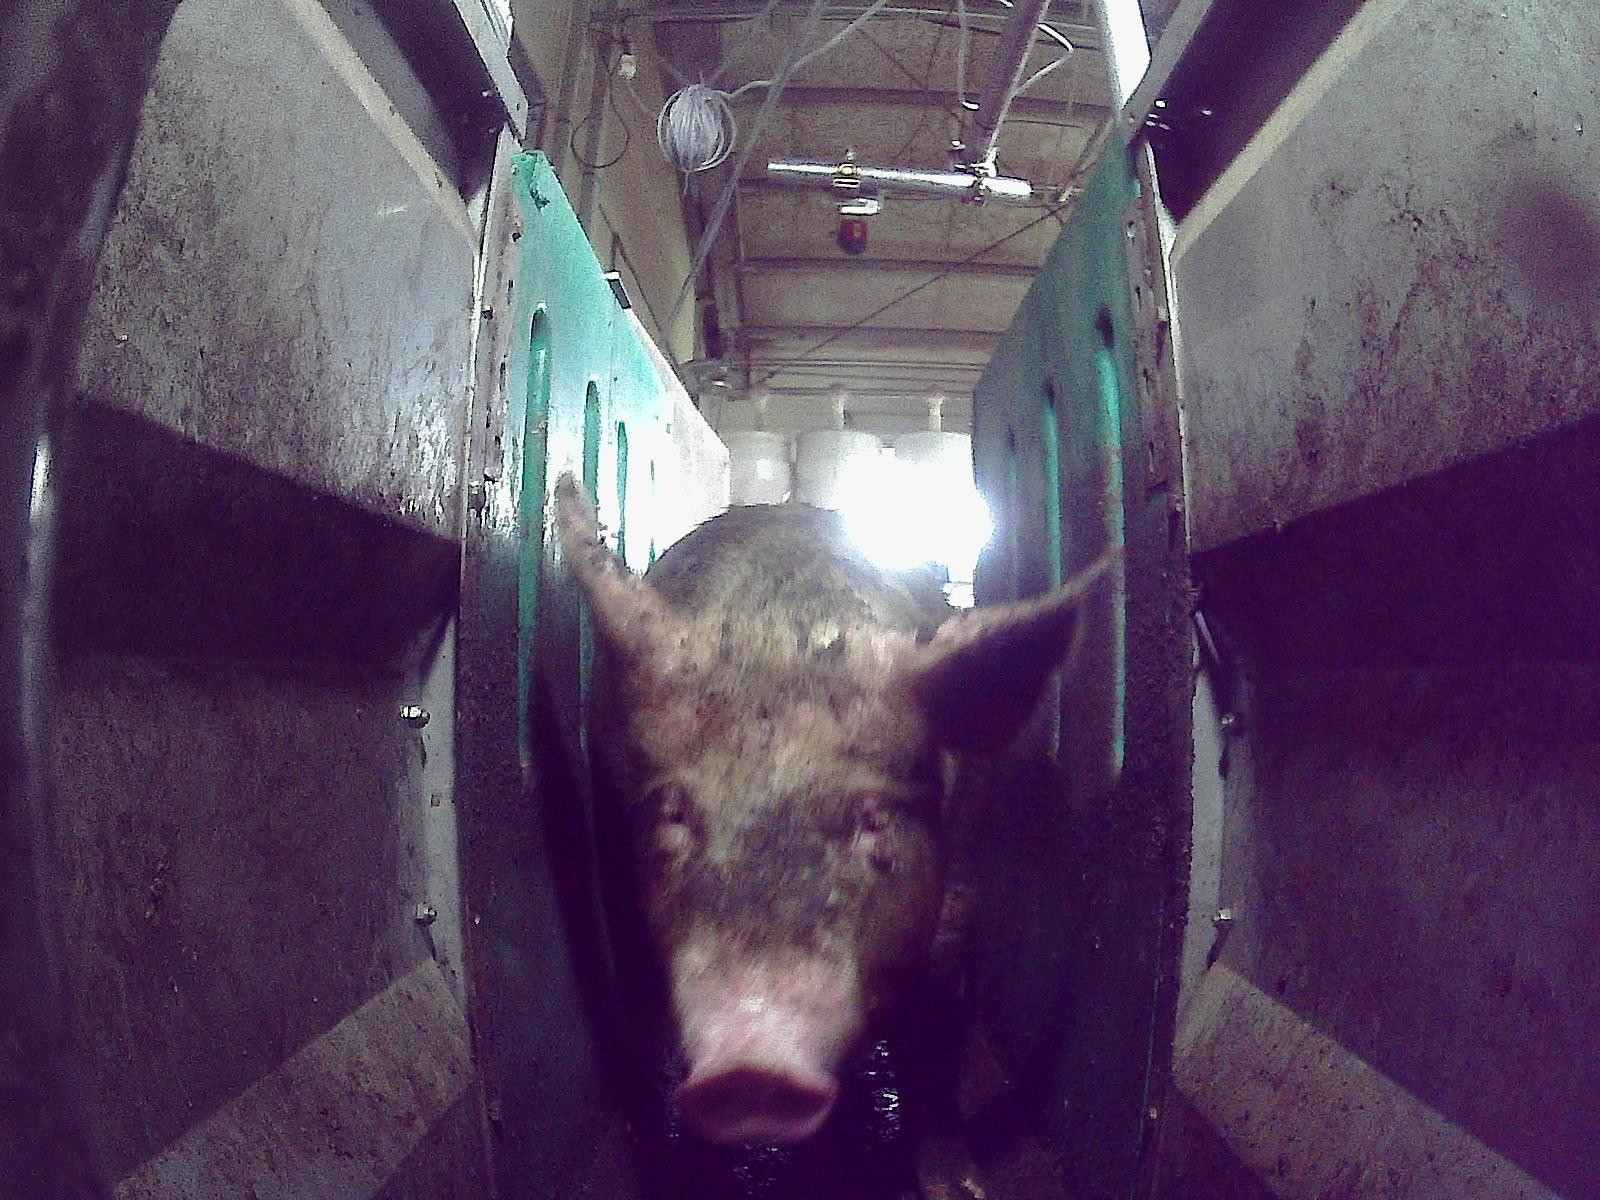Face: (625, 624, 934, 1149)
